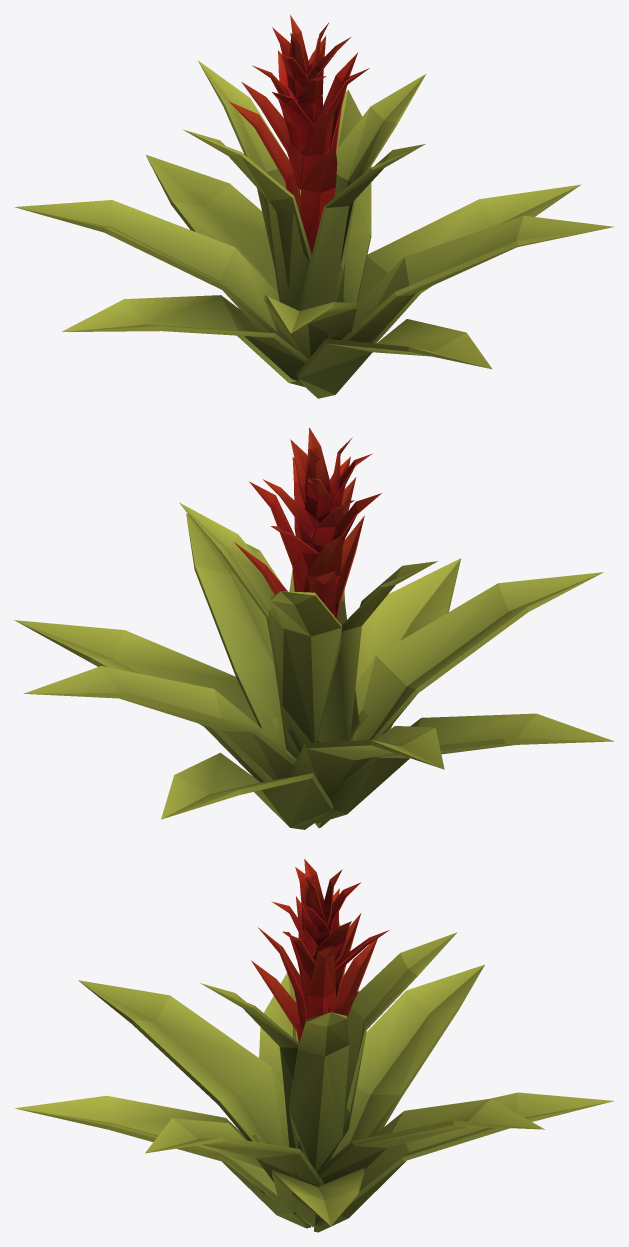
The model's file is air-bromeliad.glb.
3 renders of one model, top to bottom at view 1: azimuth 30°, elevation 25°; view 2: azimuth 150°, elevation 25°; view 3: azimuth 270°, elevation 25°, orthographic. The views are drawn at different scales.
Visible parts, largest first — view 1: plant; view 2: plant; view 3: plant.
Part boxes in pixels (x1,y1,x2,y2): plant: [14, 14, 614, 398]; plant: [14, 427, 613, 829]; plant: [15, 859, 613, 1232].
Size of the model in its own units: 6.83 by 4.5 by 6.86.
